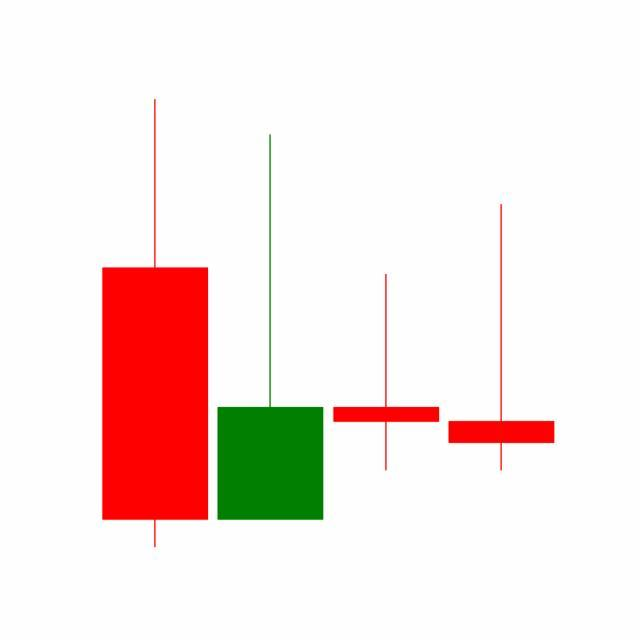Spinning Top: (444, 202, 560, 475)
